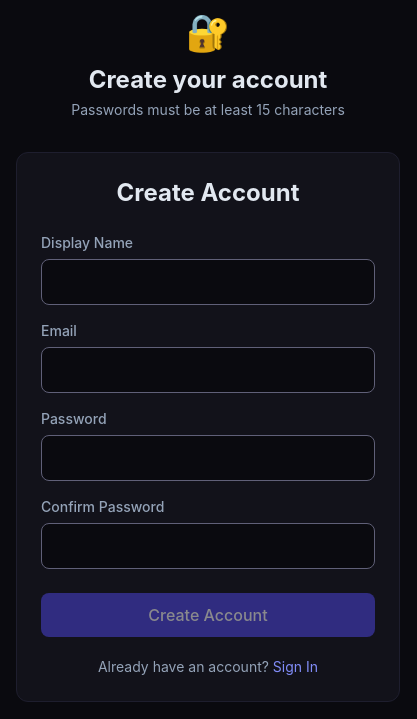
RegisterView › replaces the form with the check-your-email panel after registering
This screenshot has width=417, height=719.
Type "ada@example.com" into the field labelled "Email" at (208, 370), box [41,347,375,393]
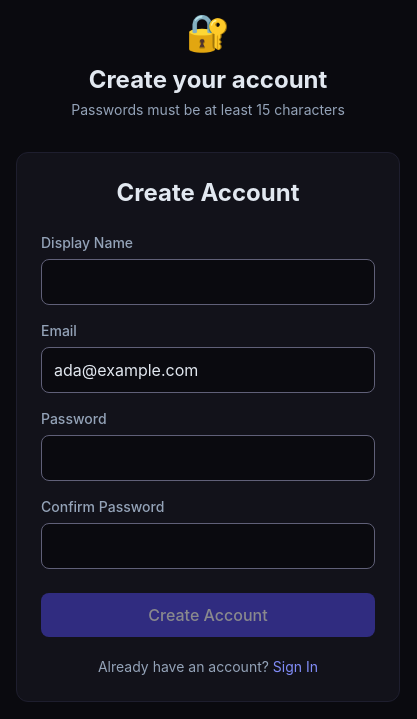
Type "correct horse battery staple" into the password field labelled "Password" at (208, 458), box [41,435,375,481]
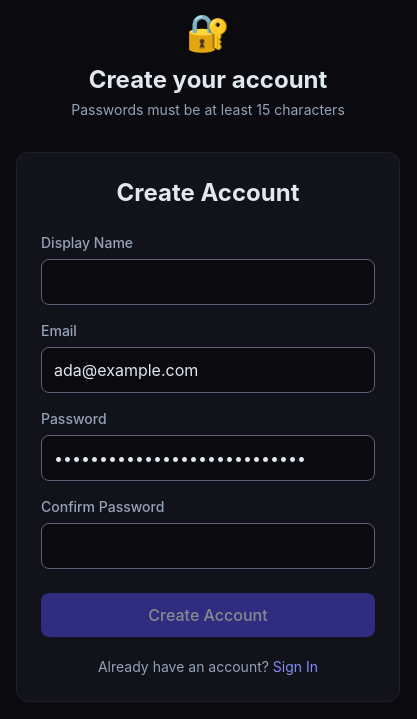
Type "correct horse battery staple" into the password field labelled "Confirm Password" at (208, 546), box [41,523,375,569]
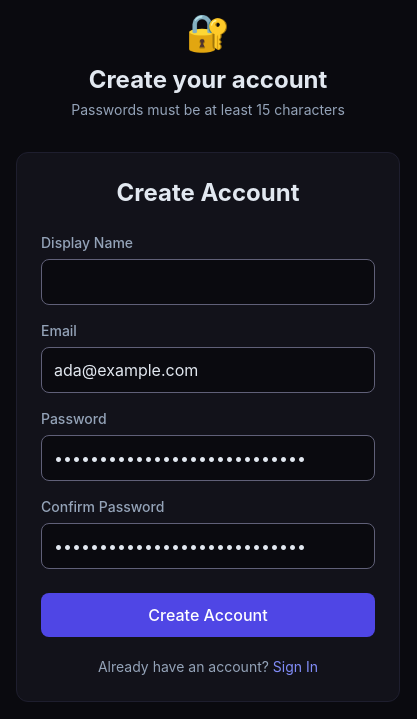
Submit the form, box [41,233,375,637]
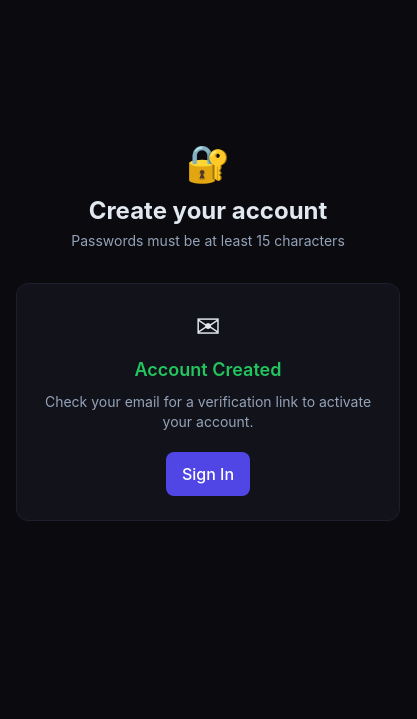
Check: the text "Account Created" is shown, box [134,359,281,380]
Check: the text "Check your email for a verification link to activate your account." is shown, box [41,392,375,432]
